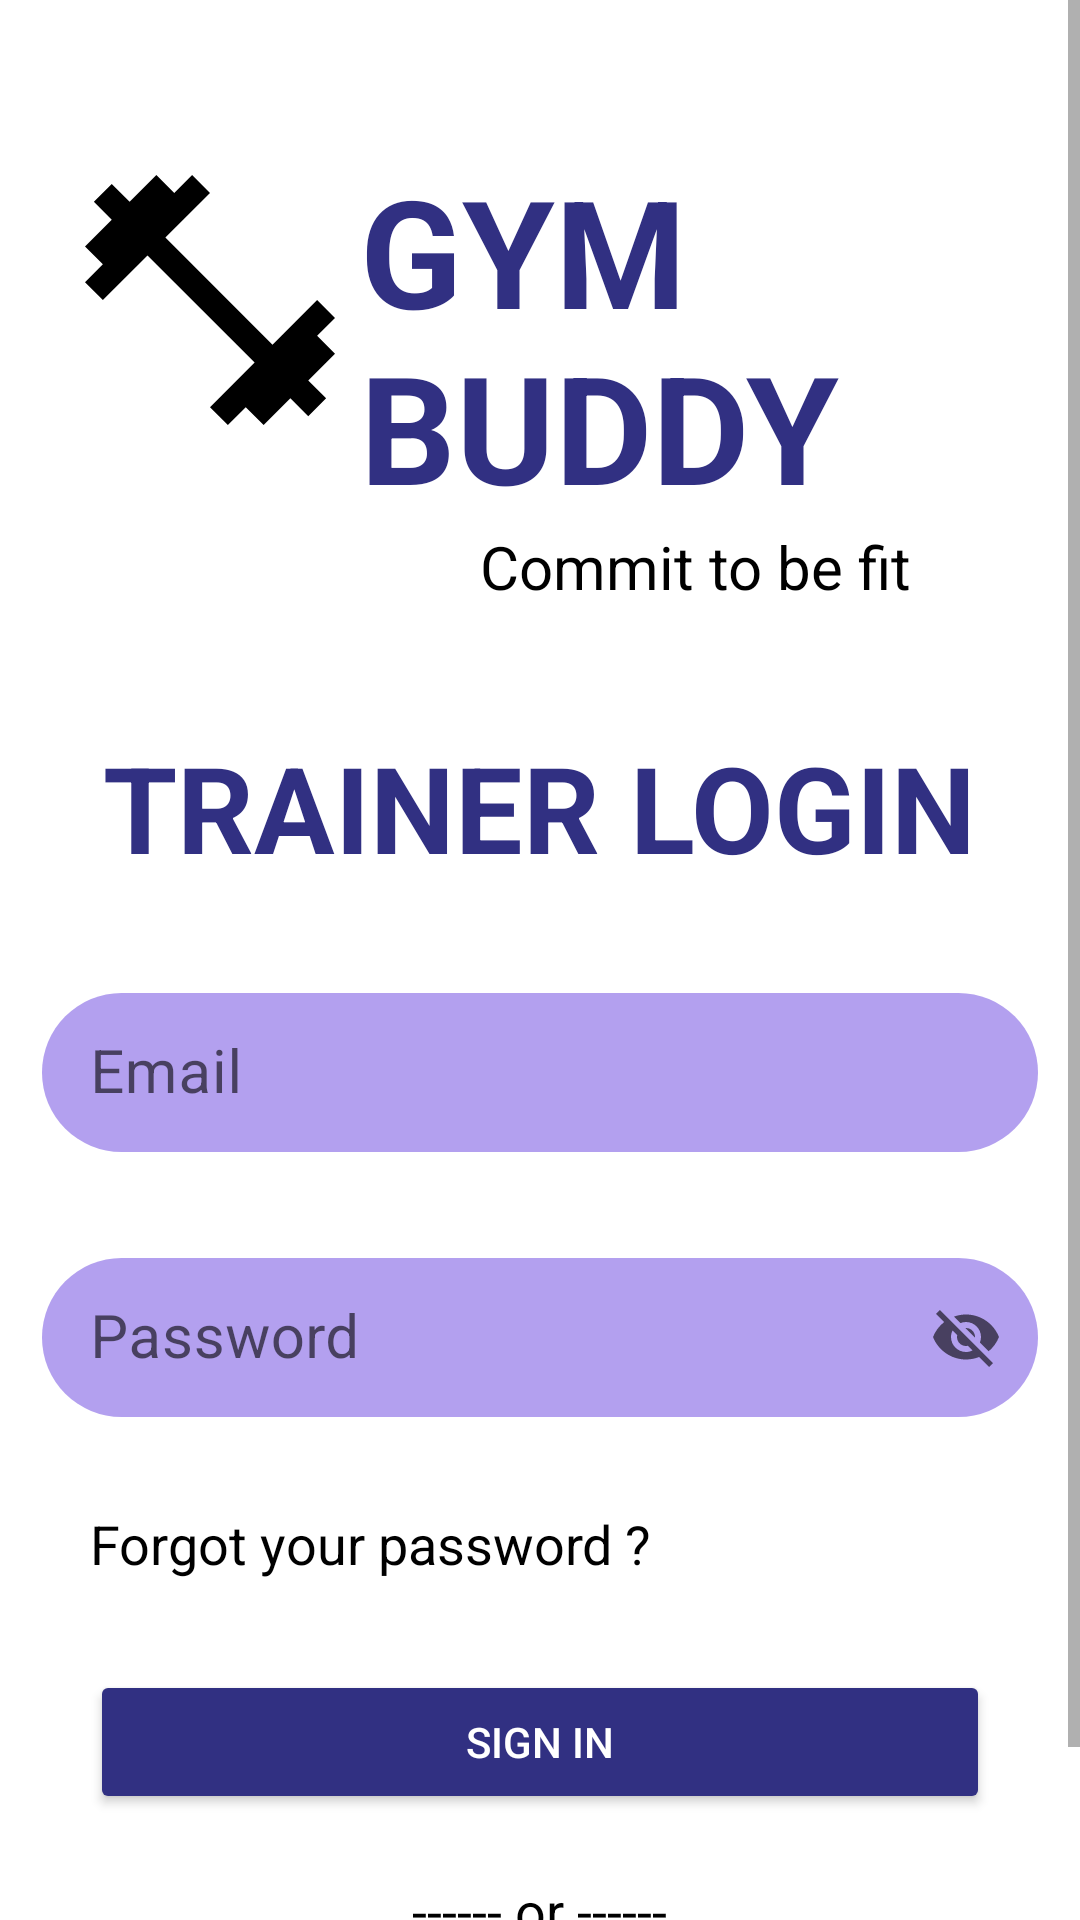

Point at icon controls on the screen. Image size 1080 x 1920, points as (x=x, y=y).
fitness center: (x=210, y=300)
